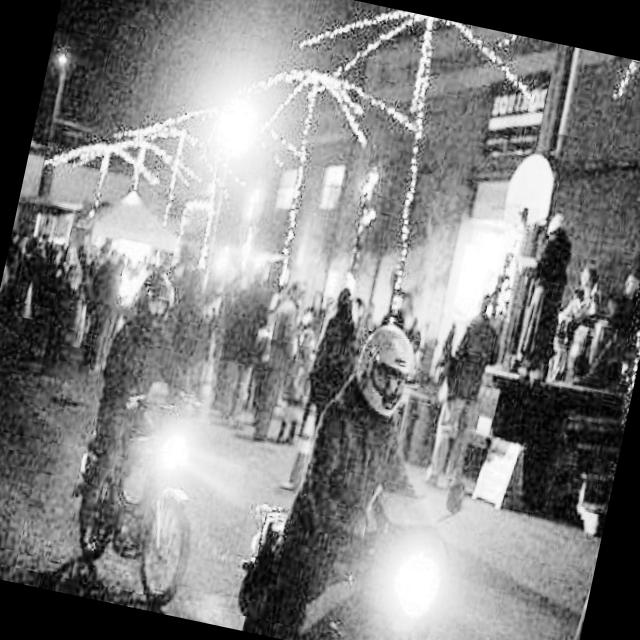Motorcycle: (226, 434, 499, 640), (35, 374, 231, 618)
